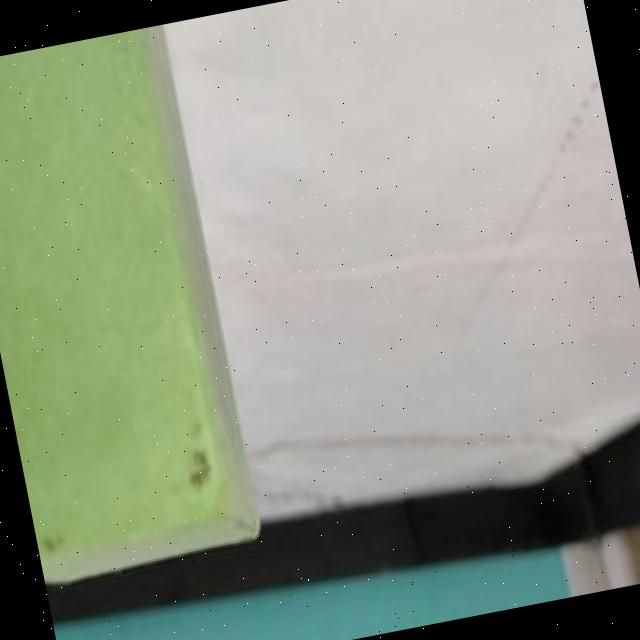greenbox: (0, 25, 259, 580)
